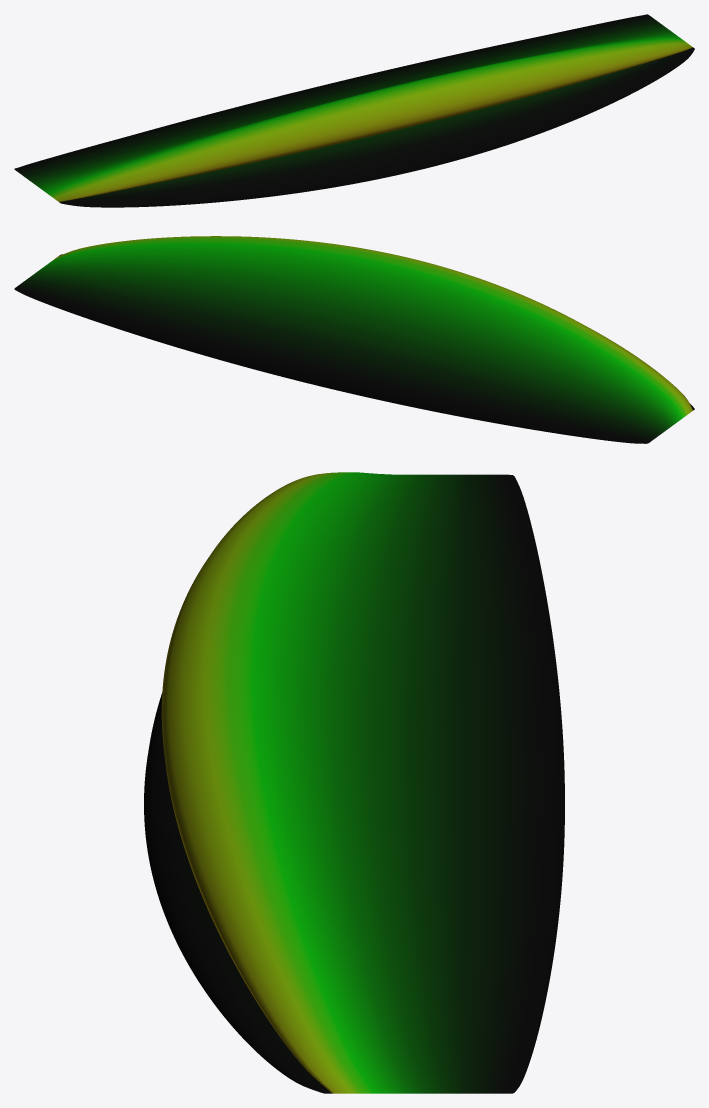
Rendered from wave.glb.
3 renders of one model, top to bottom at view 1: azimuth 30°, elevation 25°; view 2: azimuth 150°, elevation 25°; view 3: azimuth 270°, elevation 25°, orthographic. The views are drawn at different scales.
Visible parts, largest first — view 1: Wave; view 2: Wave; view 3: Wave.
Boxes of the visible parts, bbox=[...] form: Wave: bbox=[14, 14, 694, 207]; Wave: bbox=[14, 236, 694, 443]; Wave: bbox=[144, 472, 564, 1093].
Bounding box in the file's own units: 8 × 0.7635 × 2.3.
